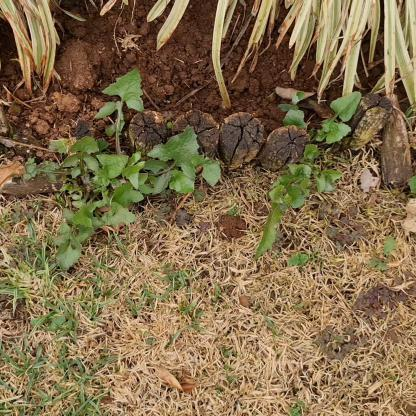Weeds: (24, 70, 222, 267), (253, 91, 363, 262)
